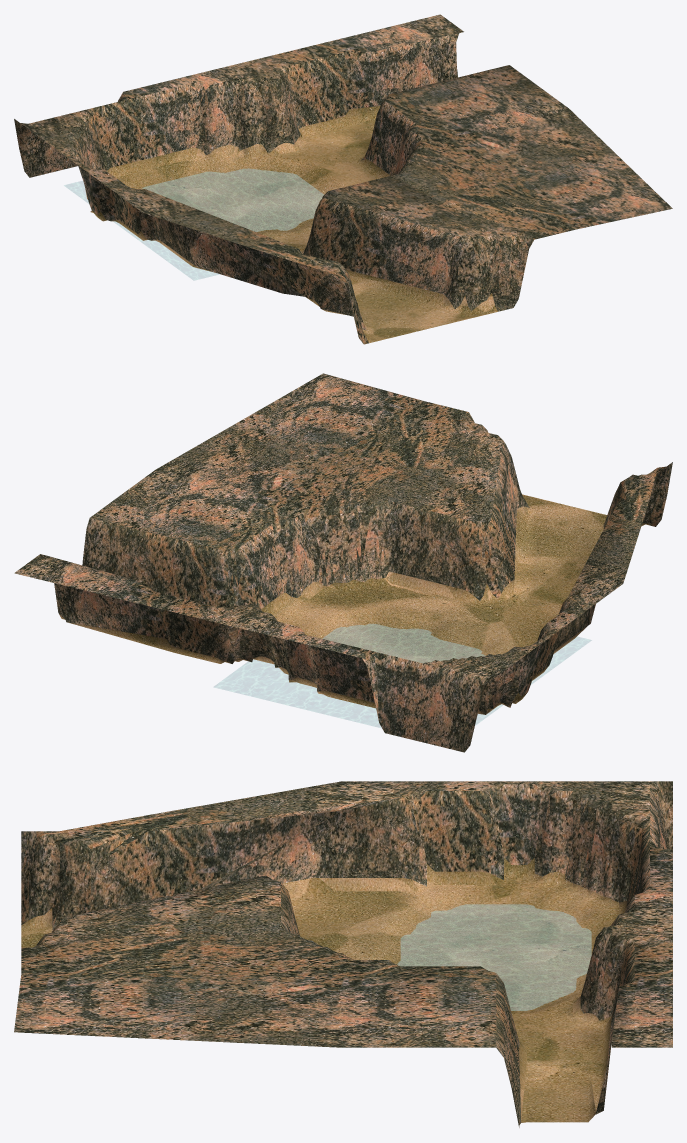
Rendered from MH_Stage1-3.fbx.
3 views of the same model, one above another, from view 1: azimuth 30°, elevation 25°; view 2: azimuth 150°, elevation 25°; view 3: azimuth 270°, elevation 25° (orthographic). The views are drawn at different scales.
Visible parts, largest first — view 1: Plane001, Plane002; view 2: Plane001, Plane002; view 3: Plane001, Plane002.
Part boxes in pixels (x1,y1,x2,y2): Plane001: (14,14,672,344); Plane002: (64,168,323,280); Plane001: (14,373,672,752); Plane002: (213,623,591,728); Plane001: (14,781,672,1127); Plane002: (397,904,591,1010).
Bounding box in the file's own units: 4301 × 4493 × 671.
3 materials, 3 textured.
